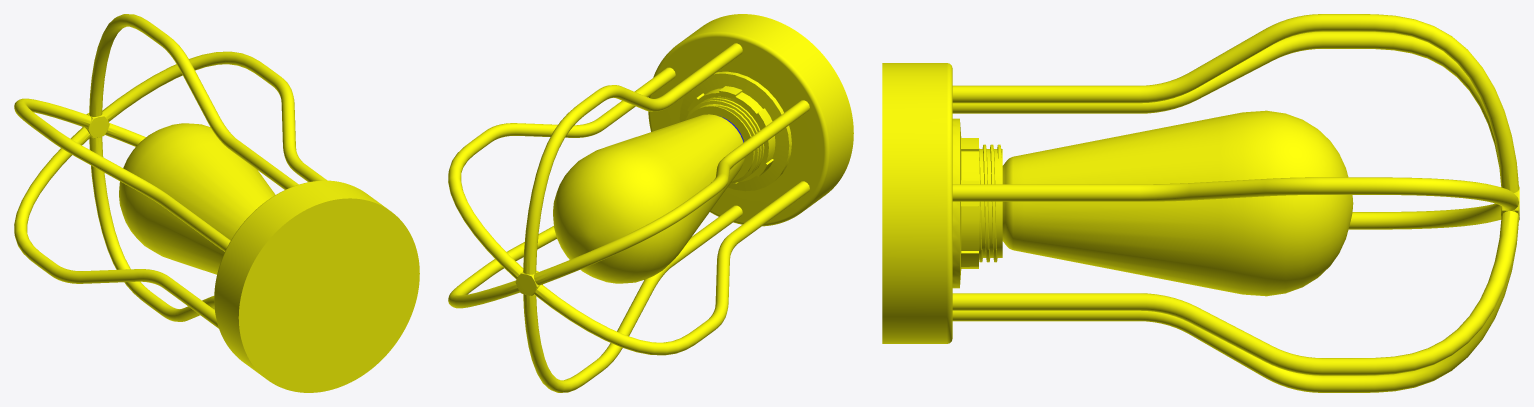
Rendered from Wall_Lamp_old.fbx.
The picture shows the model from 3 angles, left to right: view 1: azimuth 30°, elevation 25°; view 2: azimuth 150°, elevation 25°; view 3: azimuth 270°, elevation 25°; orthographic projection. The views are drawn at different scales.
Visible parts, largest first — view 1: Wall_Lamp_old_socket, Wall_Lamp_old_glass; view 2: Wall_Lamp_old_socket, Wall_Lamp_old_glass; view 3: Wall_Lamp_old_socket, Wall_Lamp_old_glass.
Part boxes in pixels (<box>): Wall_Lamp_old_socket: <box>14,14,419,392</box>; Wall_Lamp_old_glass: <box>119,123,275,274</box>; Wall_Lamp_old_socket: <box>448,14,853,392</box>; Wall_Lamp_old_glass: <box>553,114,744,283</box>; Wall_Lamp_old_socket: <box>882,14,1519,392</box>; Wall_Lamp_old_glass: <box>1002,110,1353,296</box>.
Bounding box in the file's own units: 12.38 × 14.2 × 21.73.
